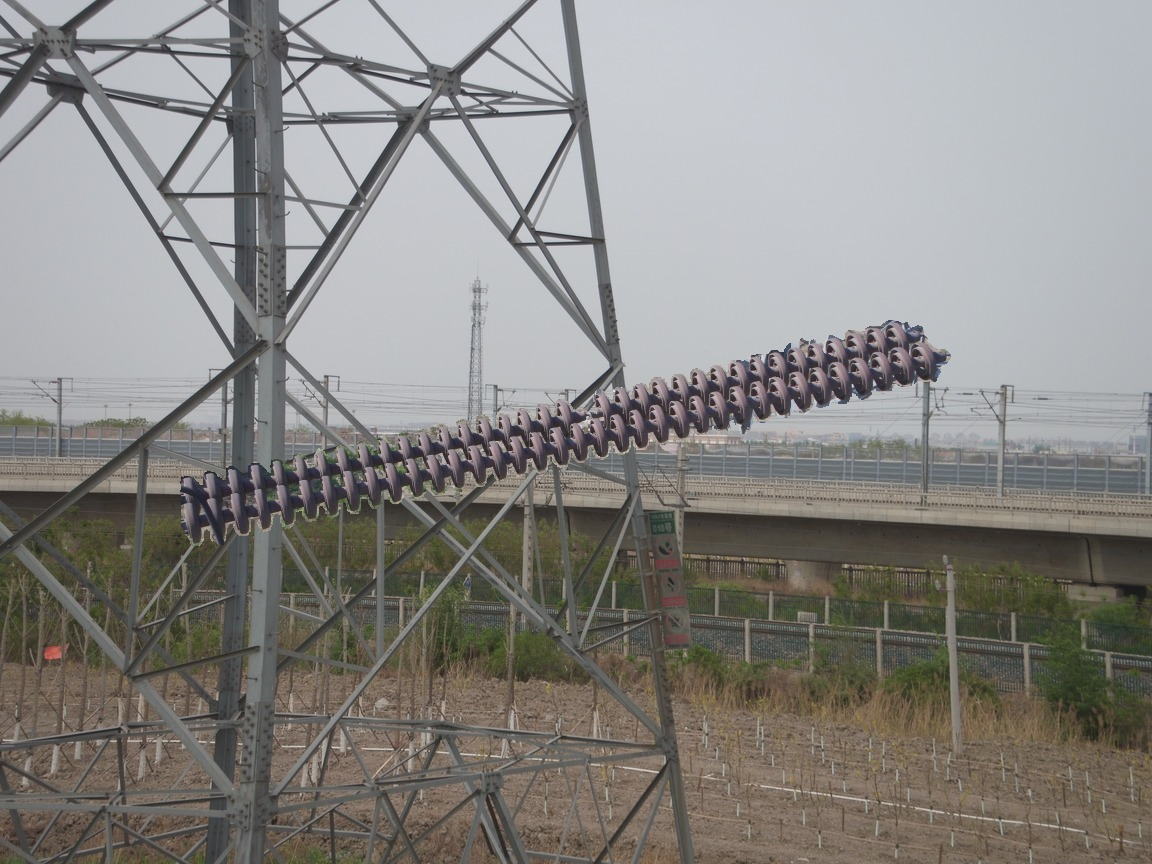defect: (551, 390, 614, 430)
